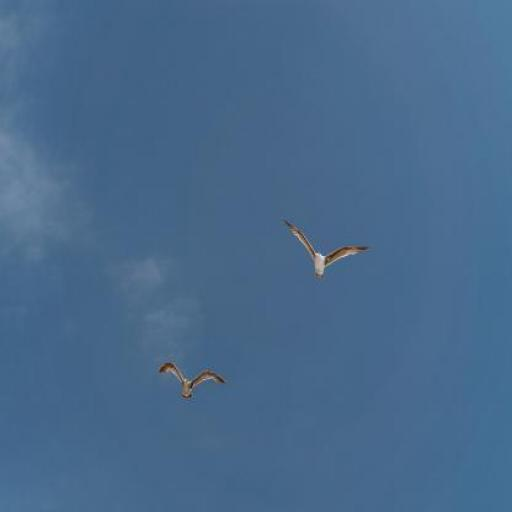bird: (285, 219, 368, 278), (157, 360, 227, 398)
